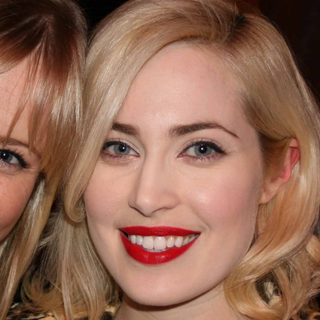eye: (177, 138, 228, 164), (97, 135, 143, 163)
